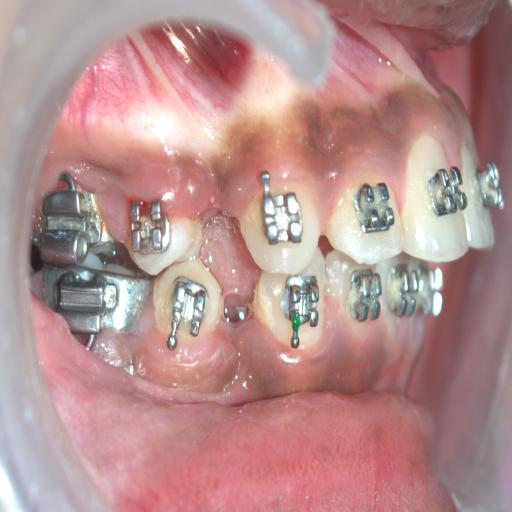correct_brace: (114, 181, 204, 285), (256, 189, 306, 247), (353, 175, 395, 239), (427, 159, 466, 218)
incorrect_brace: (324, 162, 407, 270), (125, 196, 169, 257)
